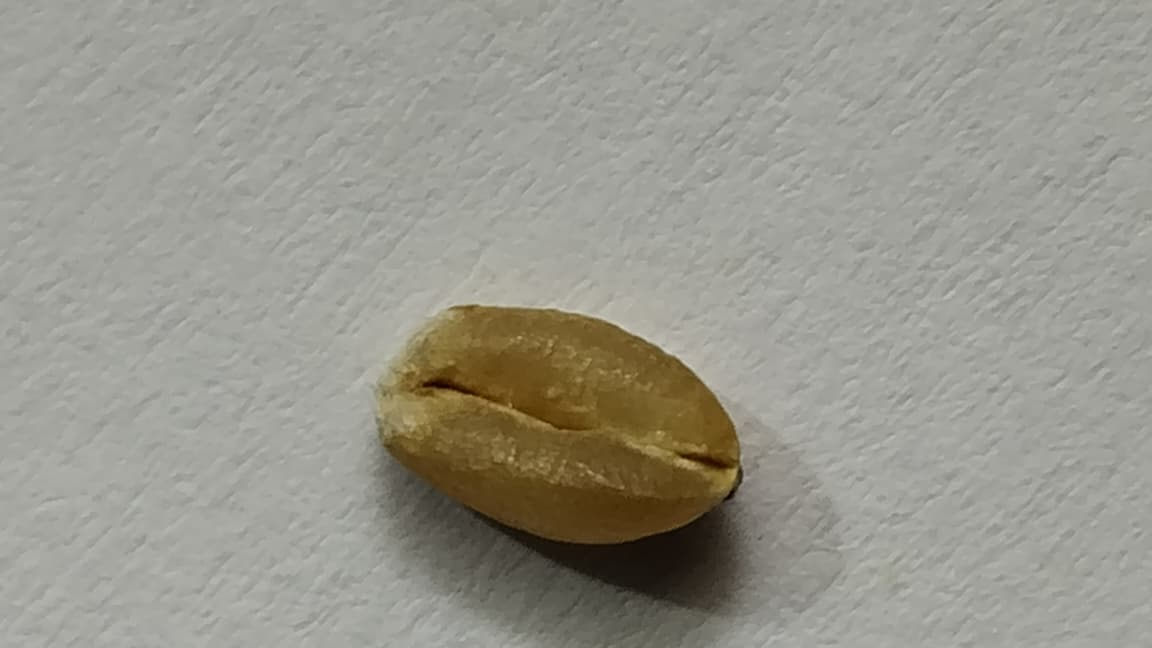healthy: (378, 307, 739, 543)
